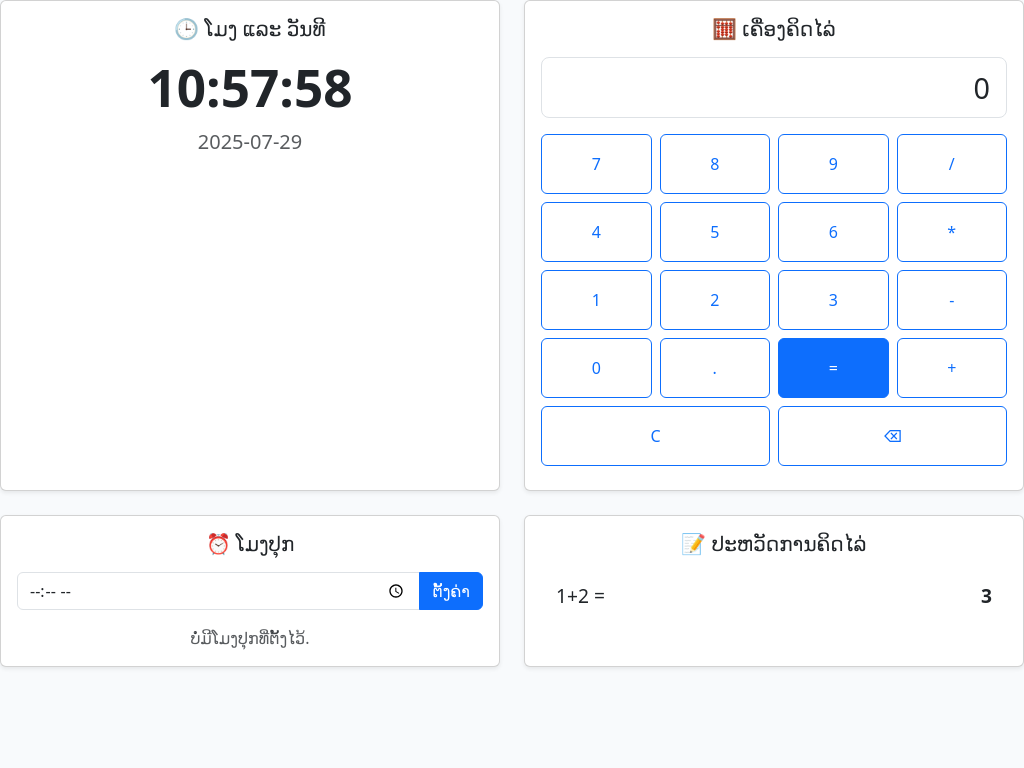
Scenario: CalculatorClockAlarm › sets an alarm
In the time field with test id "alarm-input": (219, 591) top-left (17, 572), bottom-right (420, 610), type "10:00"
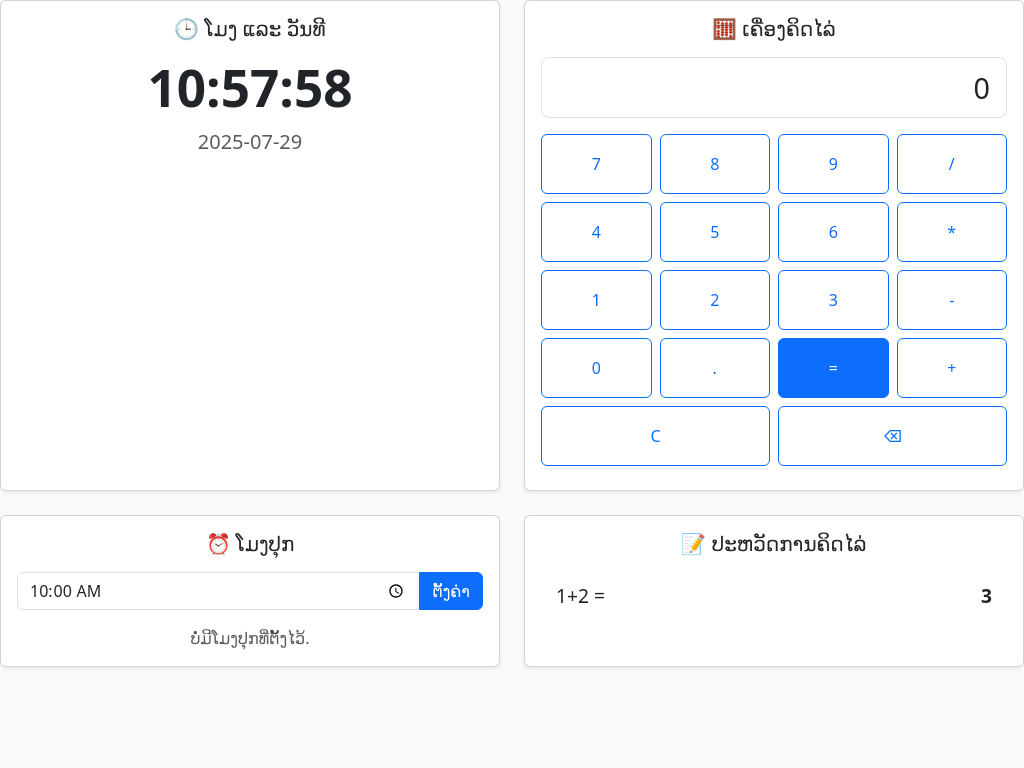
Click the button with test id "set-alarm-btn": (451, 591) top-left (419, 572), bottom-right (483, 610)
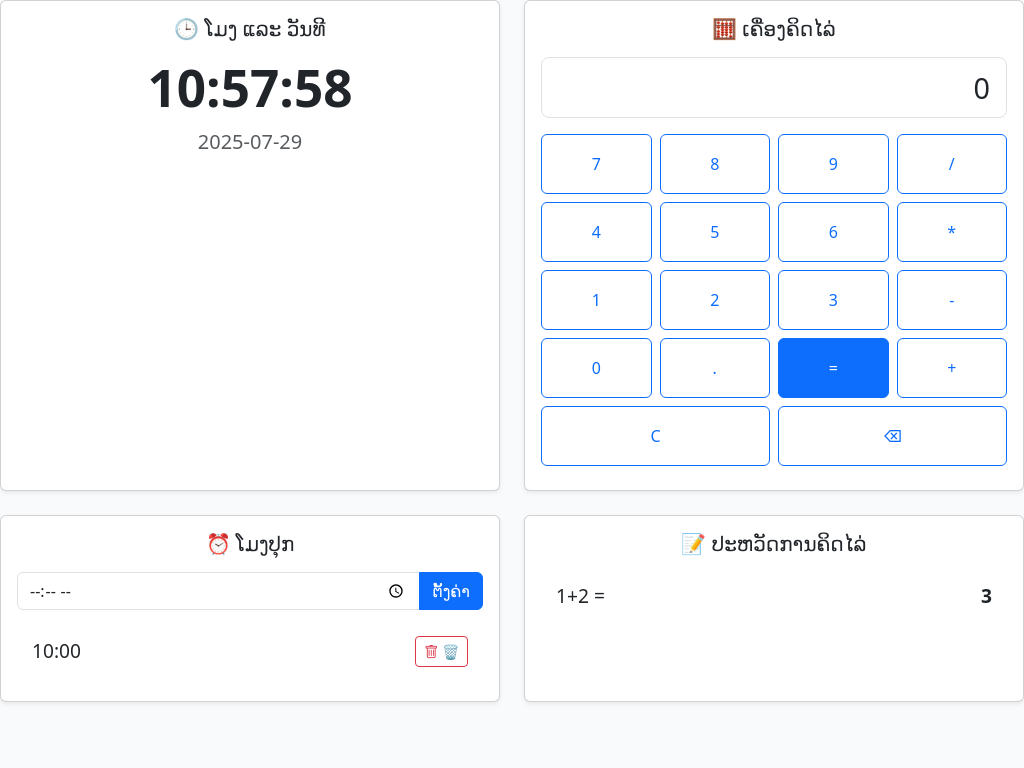
Check: the element with test id "alarm-list" shows "10:00", box top-left (32, 637), bottom-right (81, 664)
